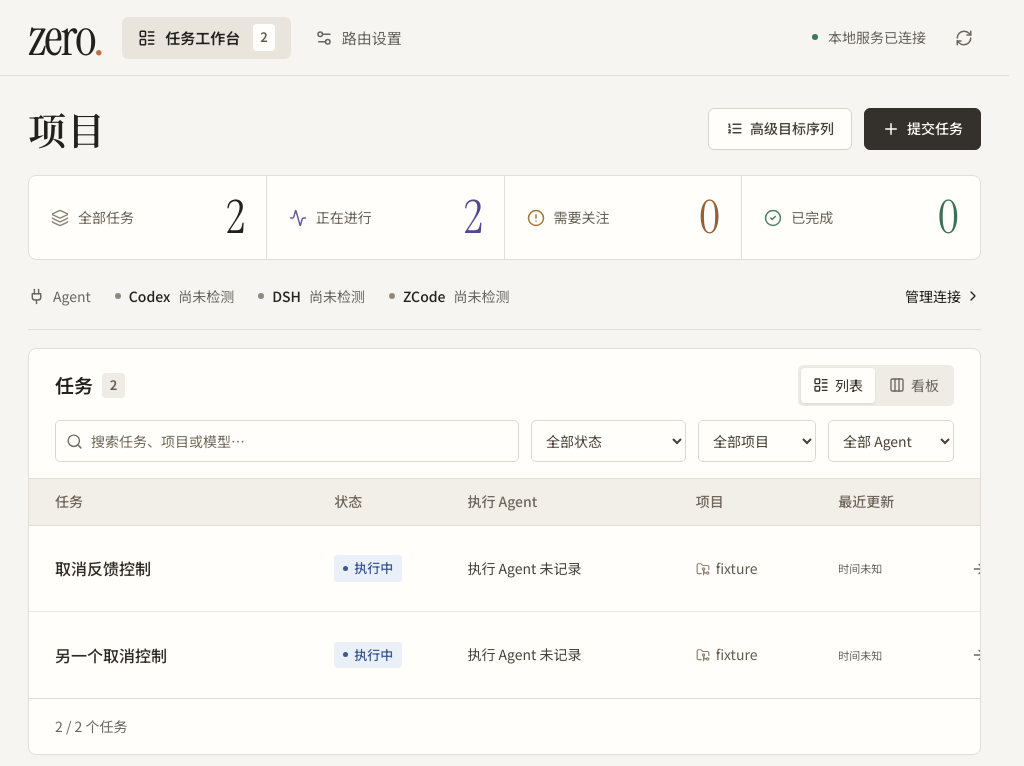
Test case: does not attach a closed drawer cancellation failure to another task
This screenshot has width=1024, height=766.
Click the button "取消反馈控制" at x=103, y=569, box [55,554,151,583]
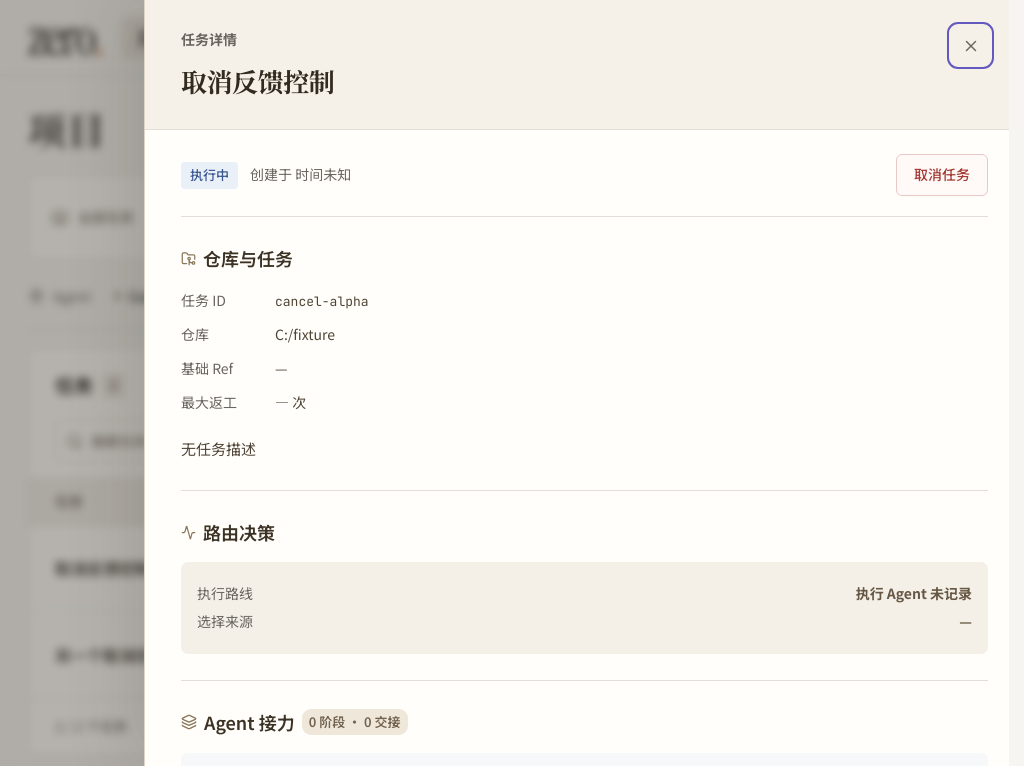
Click the button "取消任务" at x=942, y=175, box [896,154,988,196]
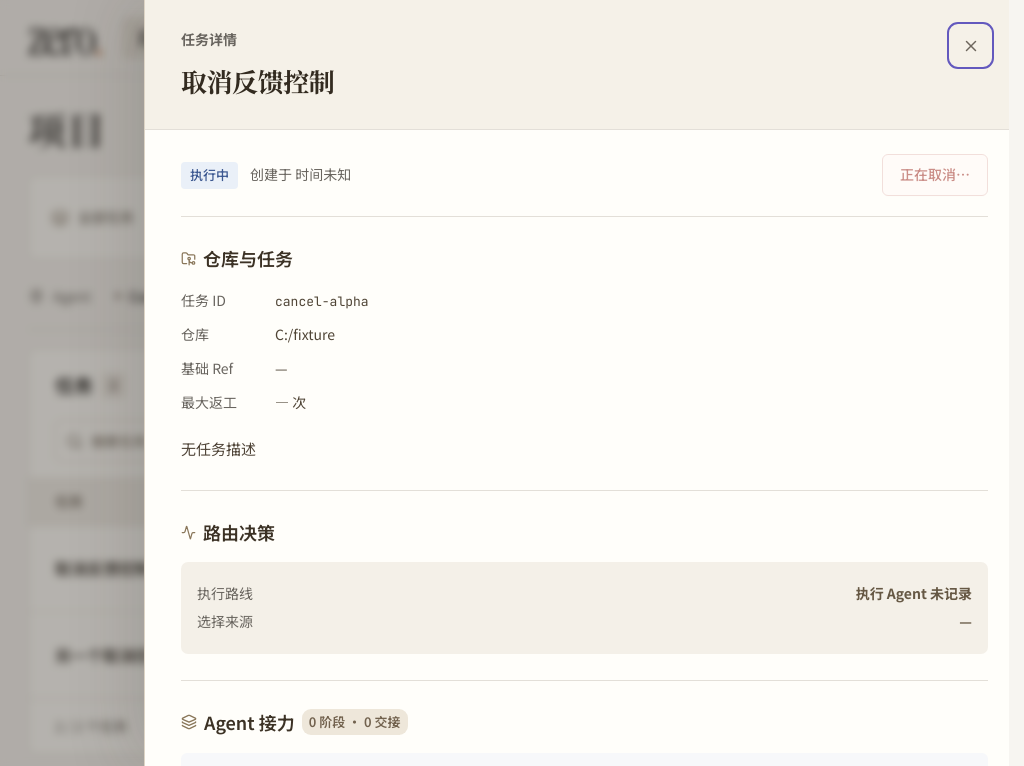
Click the button named "关闭详情" at x=970, y=46, box [953,28,988,63]
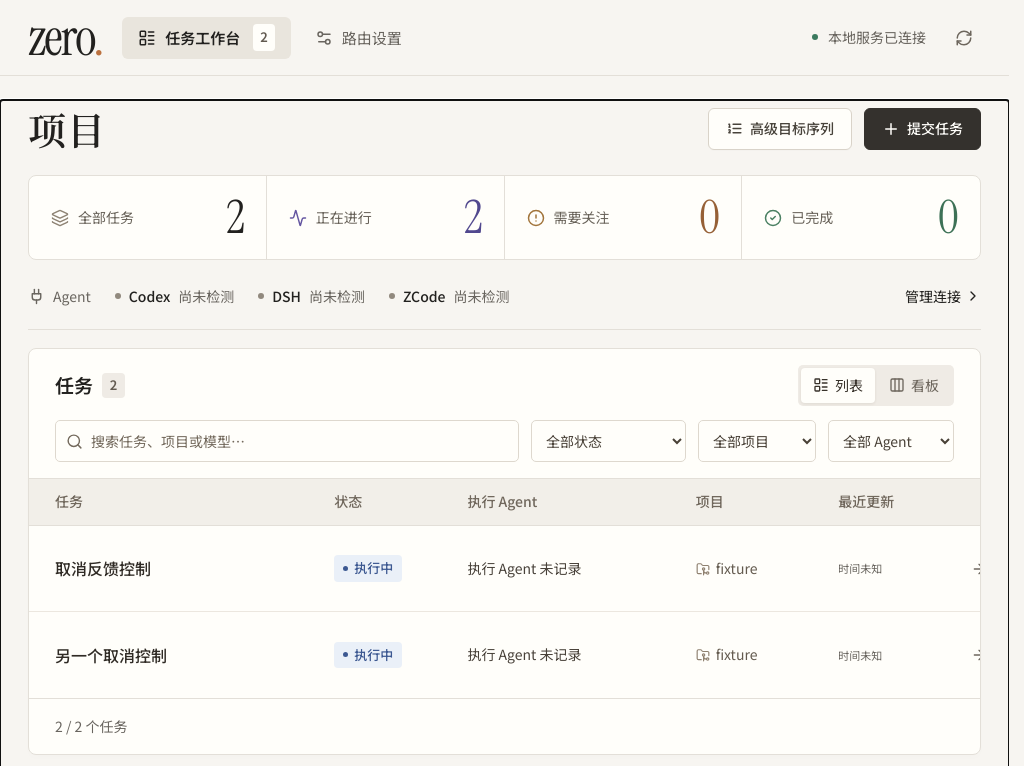
Click the button "另一个取消控制" at x=111, y=655, box [55,640,167,669]
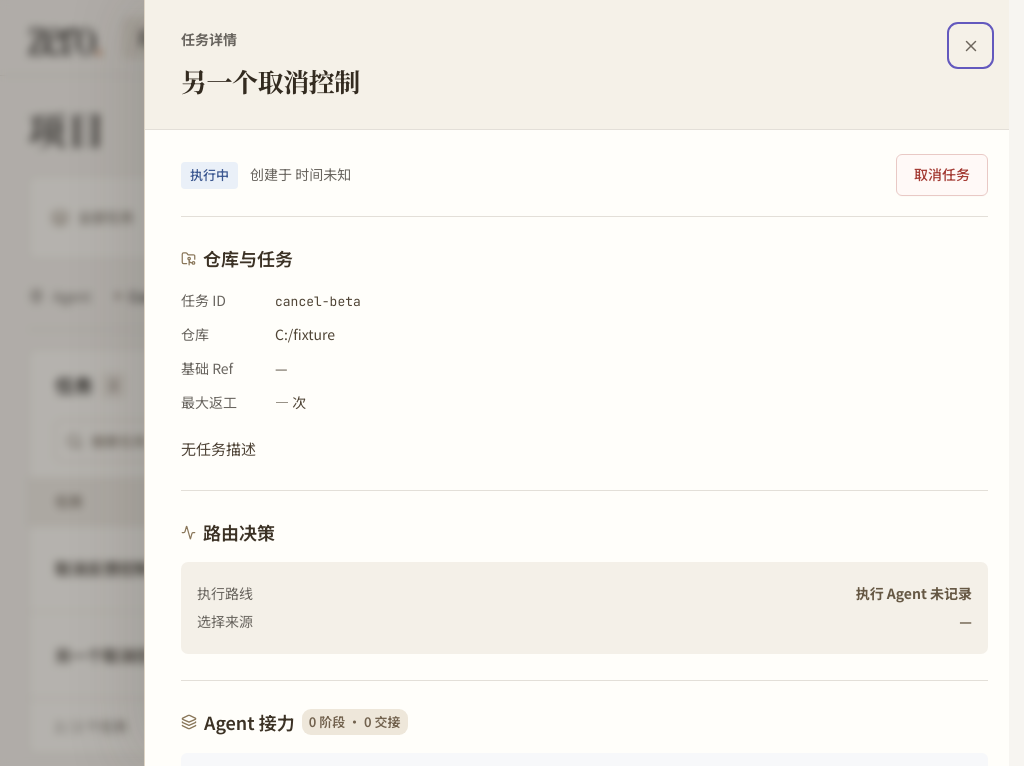
Now the heading "另一个取消控制" is shown, box [181,60,360,101]
Now the button "取消任务" is enabled, box [896,154,988,196]
